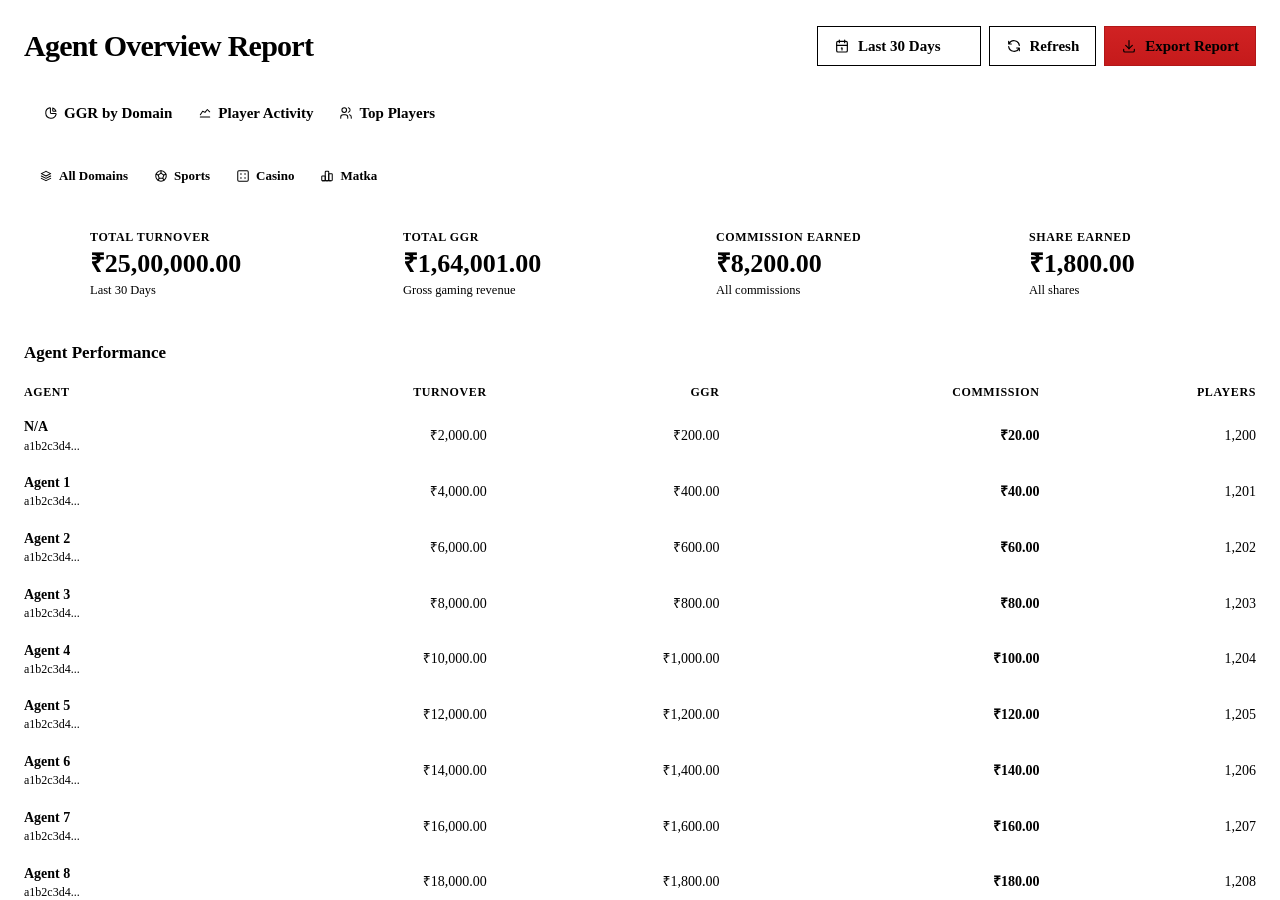
Test: AgentOverviewReport › Refresh refetches the totals only
Expected: the text "₹25,00,000.00" is shown, [90, 249, 241, 278]
Click the button "Refresh". click: (1042, 46)
box: [988, 26, 1096, 66]
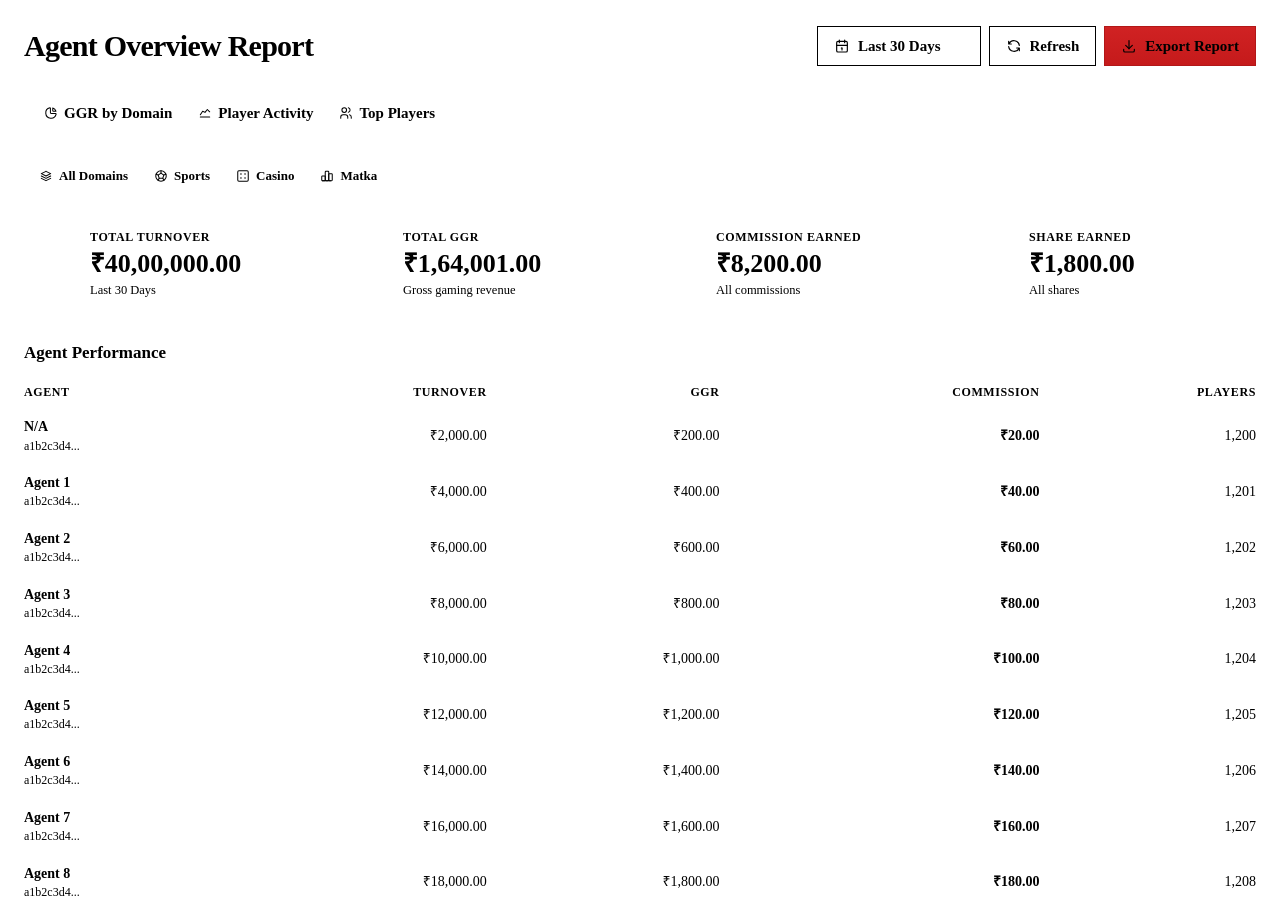
Expected: the text "₹40,00,000.00" is shown, [90, 249, 241, 278]
